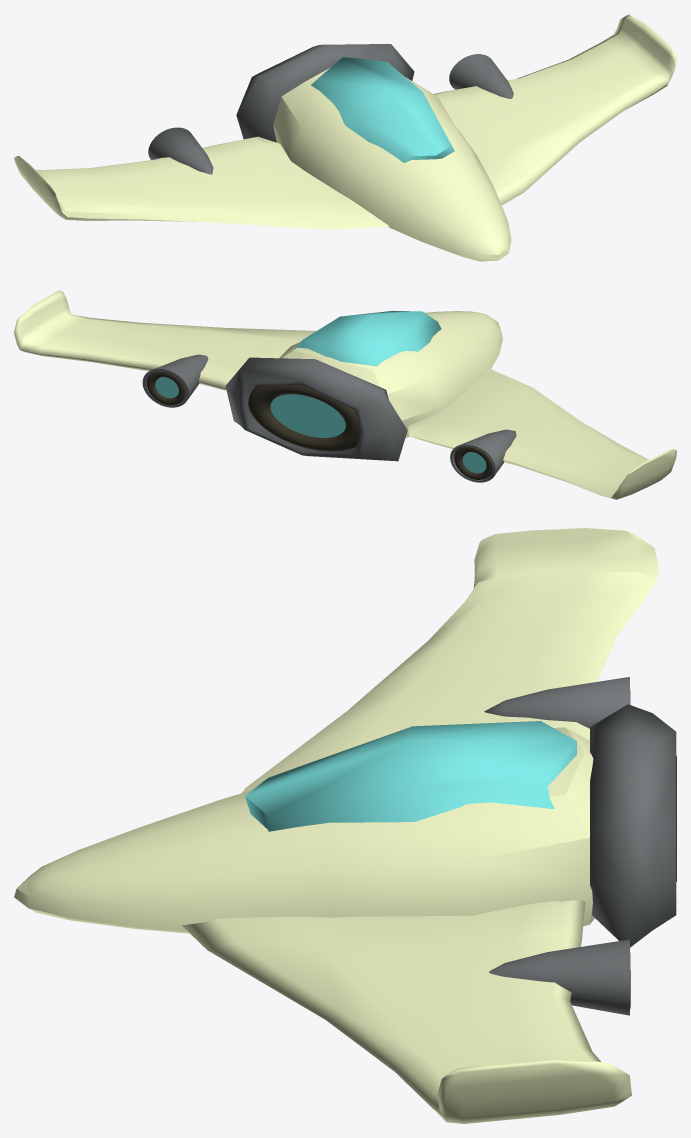
Rendered from navecaça.fbx.
The picture shows the model from 3 angles, top to bottom: view 1: azimuth 30°, elevation 25°; view 2: azimuth 150°, elevation 25°; view 3: azimuth 270°, elevation 25°; orthographic projection. The views are drawn at different scales.
Visible parts, largest first — view 1: Cube.002, Cube, Cube.001, Cube.004, Cube.003, Cylinder.001, Cylinder; view 2: Cube.002, Cube.001, Cube, Cube.003, Cube.004, Torus, Plane, Cylinder.001, Cylinder, Torus.000, Torus.002, Plane.001 (+1 smaller); view 3: Cube, Cube.001, Cube.002, Cube.004, Cube.003, Cylinder.001, Cylinder.
Part boxes in pixels (x1,y1,x2,y2): Cube.002: (14, 136, 389, 229); Cube: (273, 67, 511, 261); Cube.001: (434, 14, 676, 205); Cube.004: (311, 57, 454, 162); Cube.003: (236, 44, 414, 142); Cylinder.001: (449, 54, 513, 98); Cylinder: (148, 127, 213, 174); Cube.002: (408, 369, 676, 499); Cube.001: (14, 290, 316, 390); Cube: (279, 311, 502, 437); Cube.003: (225, 357, 407, 461); Cube.004: (292, 311, 441, 366); Torus: (248, 384, 360, 451); Plane: (270, 394, 345, 437); Cylinder.001: (142, 354, 208, 407); Cylinder: (450, 429, 516, 482); Torus.000: (146, 372, 185, 404); Torus.002: (454, 447, 492, 479); Plane.001: (462, 452, 486, 473); Cube: (14, 727, 594, 933); Cube.001: (182, 900, 631, 1123); Cube.002: (242, 528, 658, 792); Cube.004: (245, 721, 576, 831); Cube.003: (590, 704, 676, 947); Cylinder.001: (489, 939, 629, 1015); Cylinder: (484, 677, 629, 728).
Size of the model in its own units: 1114 by 165 by 585.
